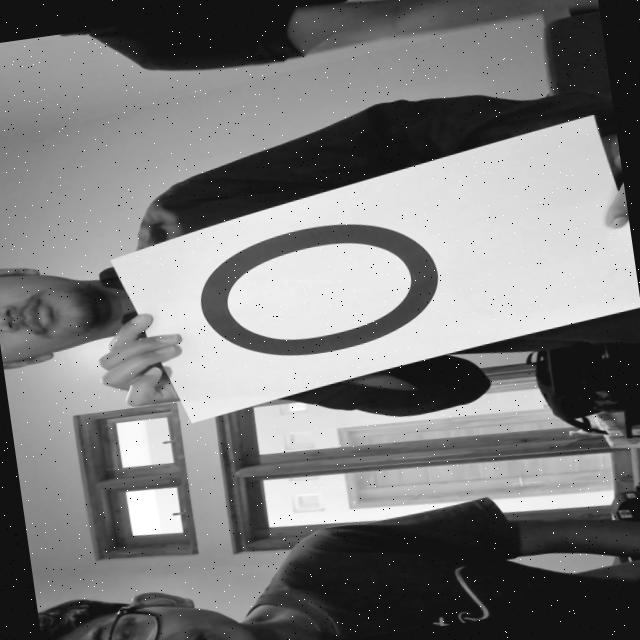o: (171, 196, 461, 384)
